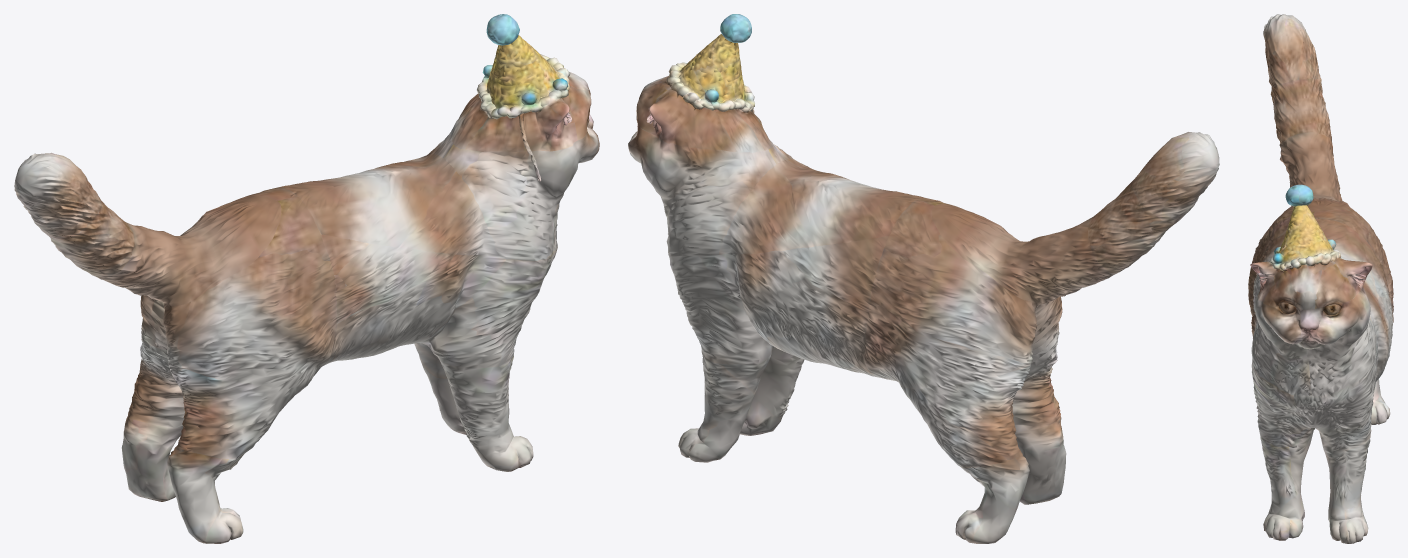
Rendered from HOICHAN.glb.
3 views of the same model, side by side, from view 1: azimuth 30°, elevation 25°; view 2: azimuth 150°, elevation 25°; view 3: azimuth 270°, elevation 25° (orthographic). The views are drawn at different scales.
Visible parts, largest first — view 1: tripo_node_4b0c2379-7976-472d-91b7-7c4e765e8411; view 2: tripo_node_4b0c2379-7976-472d-91b7-7c4e765e8411; view 3: tripo_node_4b0c2379-7976-472d-91b7-7c4e765e8411.
Part boxes in pixels (<box>): tripo_node_4b0c2379-7976-472d-91b7-7c4e765e8411: <box>14,14,599,543</box>; tripo_node_4b0c2379-7976-472d-91b7-7c4e765e8411: <box>628,14,1219,543</box>; tripo_node_4b0c2379-7976-472d-91b7-7c4e765e8411: <box>1248,14,1393,543</box>.
Bounding box in the file's own units: 1.4 × 0.9977 × 0.3746.
Materials: 1 (1 with a texture image).
